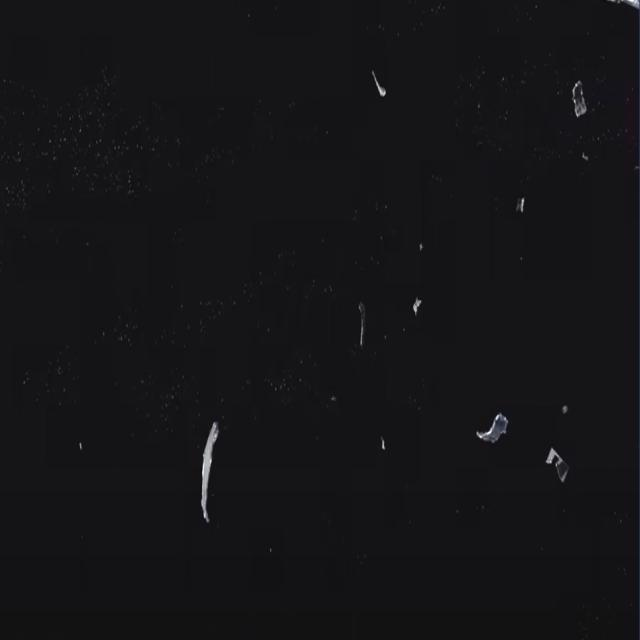large_debris: (191, 405, 226, 543), (468, 396, 516, 463), (539, 430, 575, 502), (345, 292, 373, 370), (564, 73, 598, 135), (400, 277, 430, 334), (363, 57, 392, 109)
